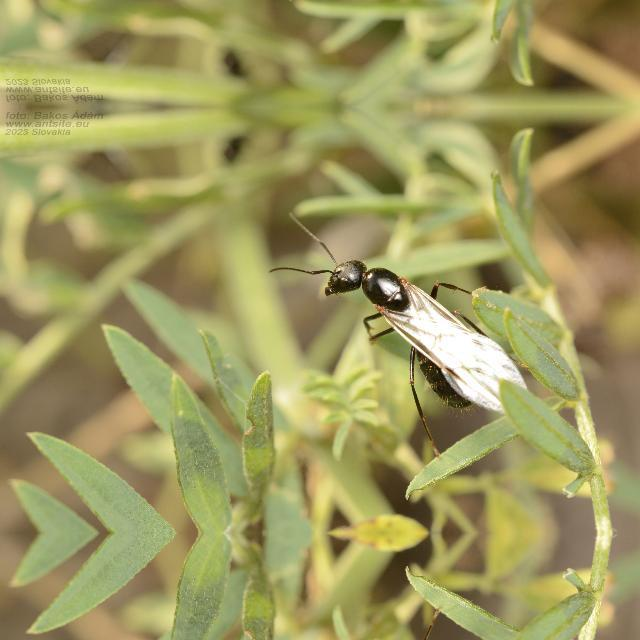Camponotus: (288, 229, 582, 429)
